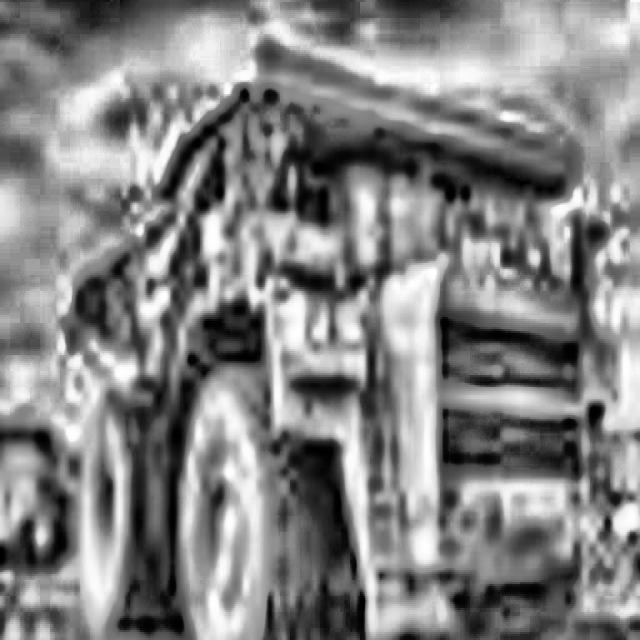dump_truck: (61, 32, 621, 640), (0, 385, 76, 584)
